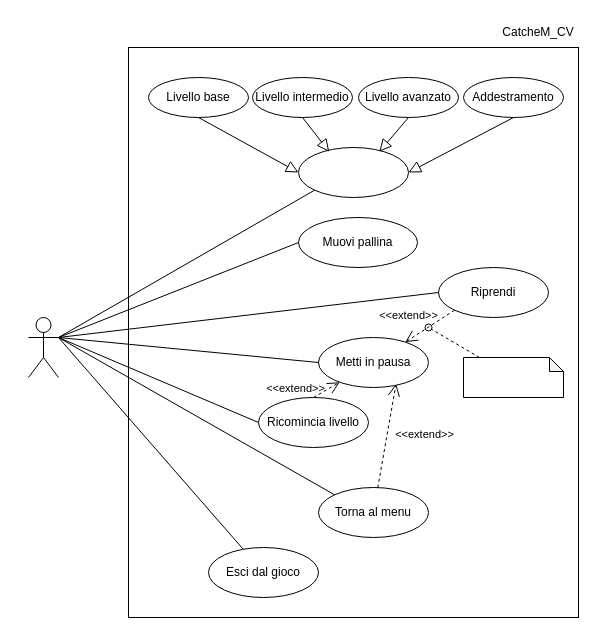
Some shapes in this 596 by 635 pixel diagram are drawn without their labels. The box of each missing label's shape, as (x1, y1, x2, y2) in pixels:
Condizione: {giocatore sceglie PAUSA}: (462, 356, 564, 398)
Giocatore: (28, 316, 58, 378)
Seleziona livello: (298, 146, 408, 198)
